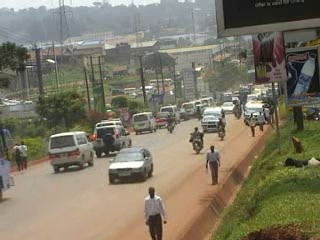Car: (103, 145, 155, 184), (91, 123, 137, 158), (153, 112, 171, 130), (218, 101, 236, 114), (176, 106, 188, 123)
Motorcycle: (186, 125, 206, 158), (164, 111, 176, 133), (215, 116, 226, 140), (230, 100, 243, 120), (193, 104, 203, 120)
